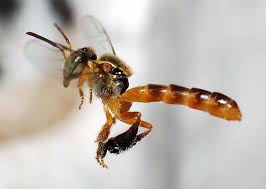jataí: (22, 14, 245, 175)
